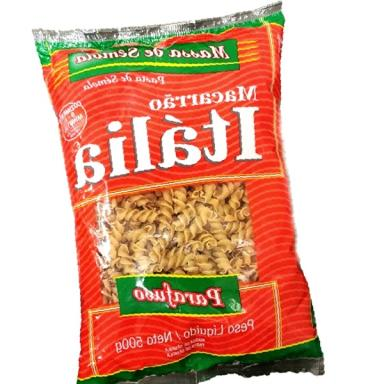pasta package: (34, 4, 323, 383)
